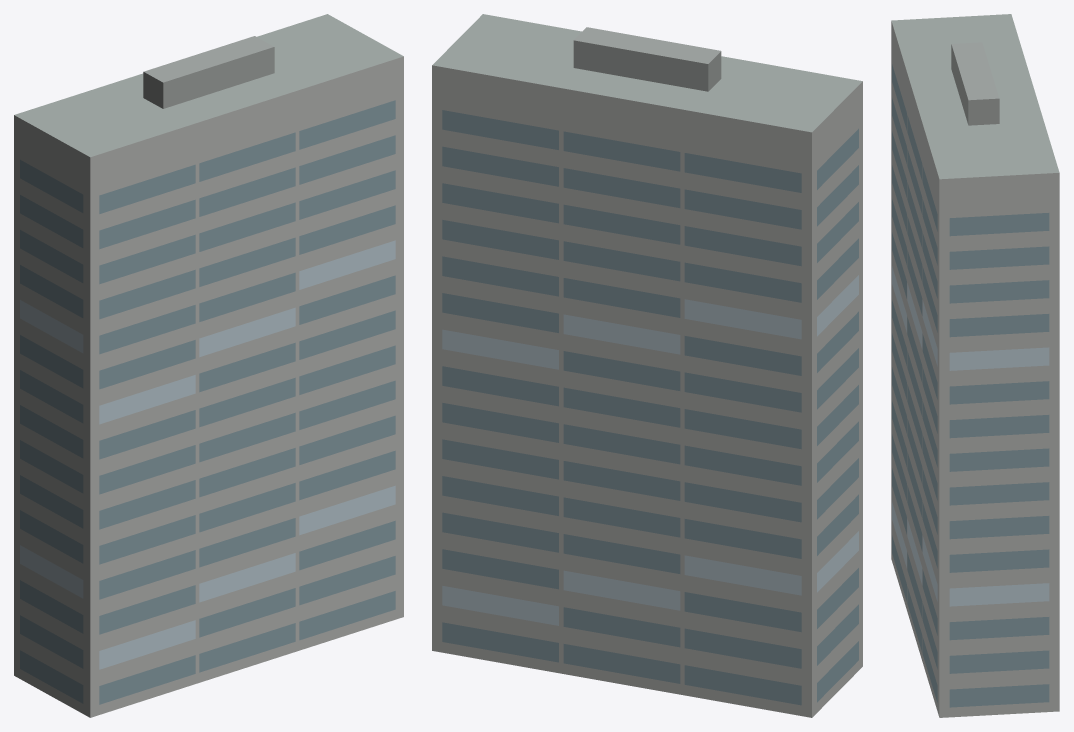
Rendered from fallback-godeok-raemian-hillstate-106.glb.
The picture shows the model from 3 angles, left to right: view 1: azimuth 30°, elevation 25°; view 2: azimuth 150°, elevation 25°; view 3: azimuth 270°, elevation 25°; orthographic projection. The views are drawn at different scales.
Visible parts, largest first — view 1: fallback-godeok-raemian-hillstate-106; view 2: fallback-godeok-raemian-hillstate-106; view 3: fallback-godeok-raemian-hillstate-106.
Boxes of the visible parts, x1,y1,x2,y2 form: fallback-godeok-raemian-hillstate-106: [14, 14, 403, 717]; fallback-godeok-raemian-hillstate-106: [432, 14, 862, 717]; fallback-godeok-raemian-hillstate-106: [891, 14, 1059, 717].
Size of the model in its own units: 31.42 by 50 by 13.51.
